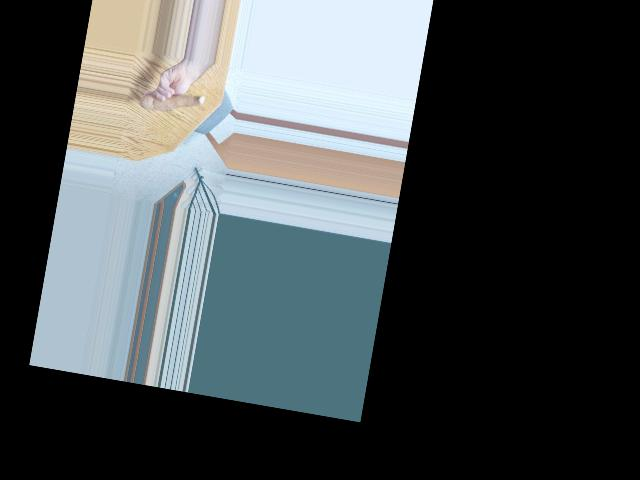sweet_potato: (141, 83, 202, 121)
